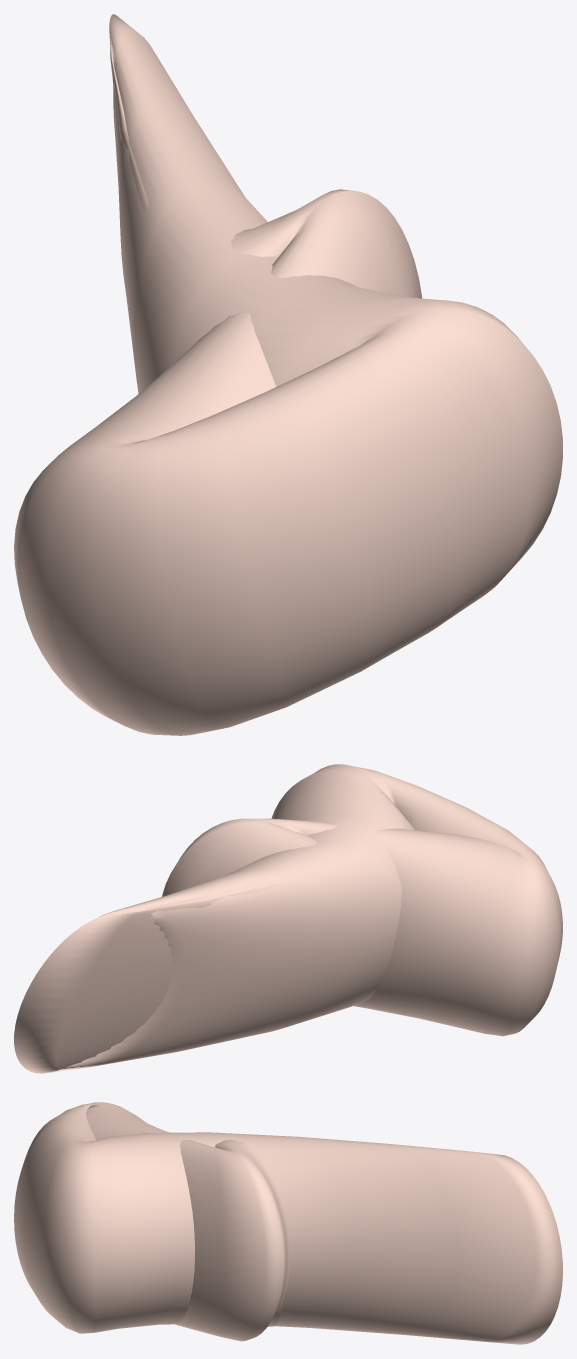
3 views of the same model, one above another, from view 1: azimuth 30°, elevation 25°; view 2: azimuth 150°, elevation 25°; view 3: azimuth 270°, elevation 25° (orthographic). The views are drawn at different scales.
Visible parts, largest first — view 1: GR_CE; view 2: GR_CE; view 3: GR_CE.
Boxes of the visible parts, left/top/right/bottom form: GR_CE: left=14, top=14, right=562, bottom=735; GR_CE: left=14, top=764, right=562, bottom=1073; GR_CE: left=14, top=1102, right=562, bottom=1344.
Size of the model in its own units: 9.03 by 6.2 by 14.1.
